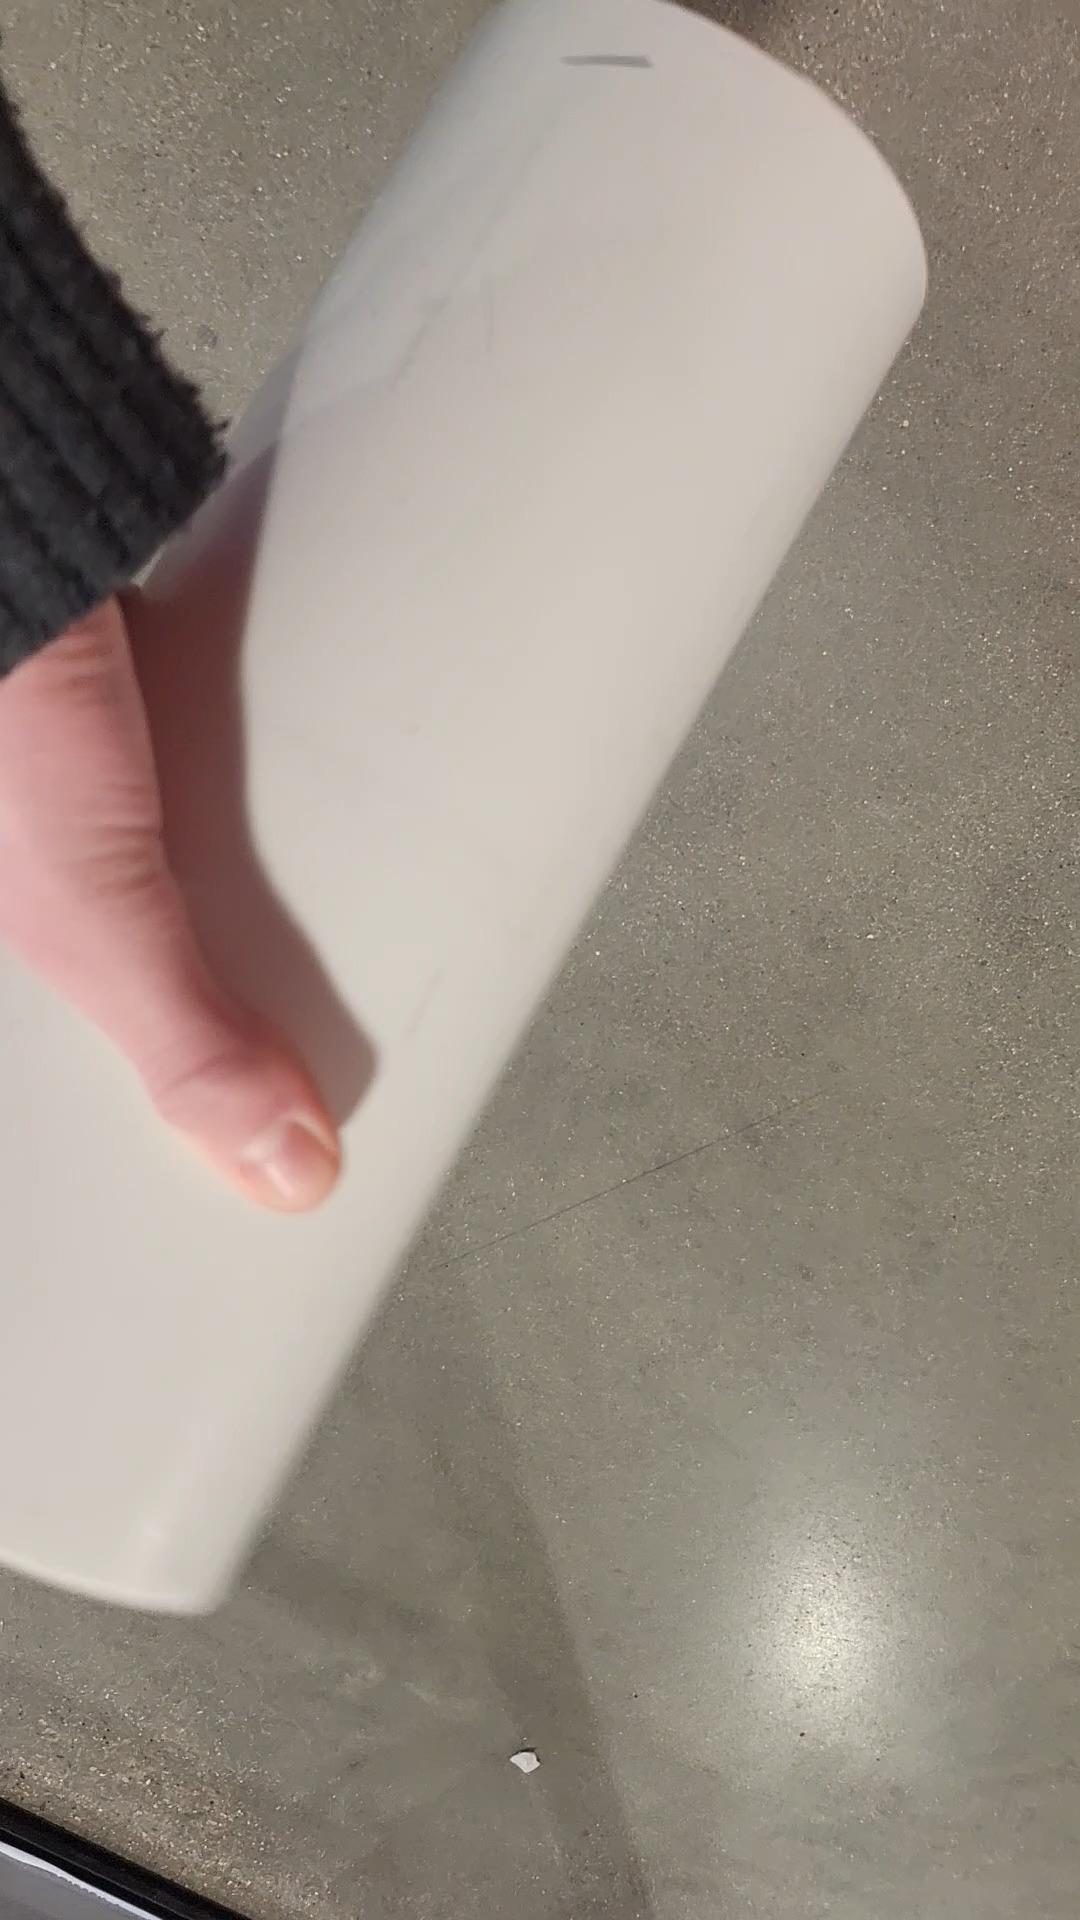coral: (0, 0, 927, 1627)
